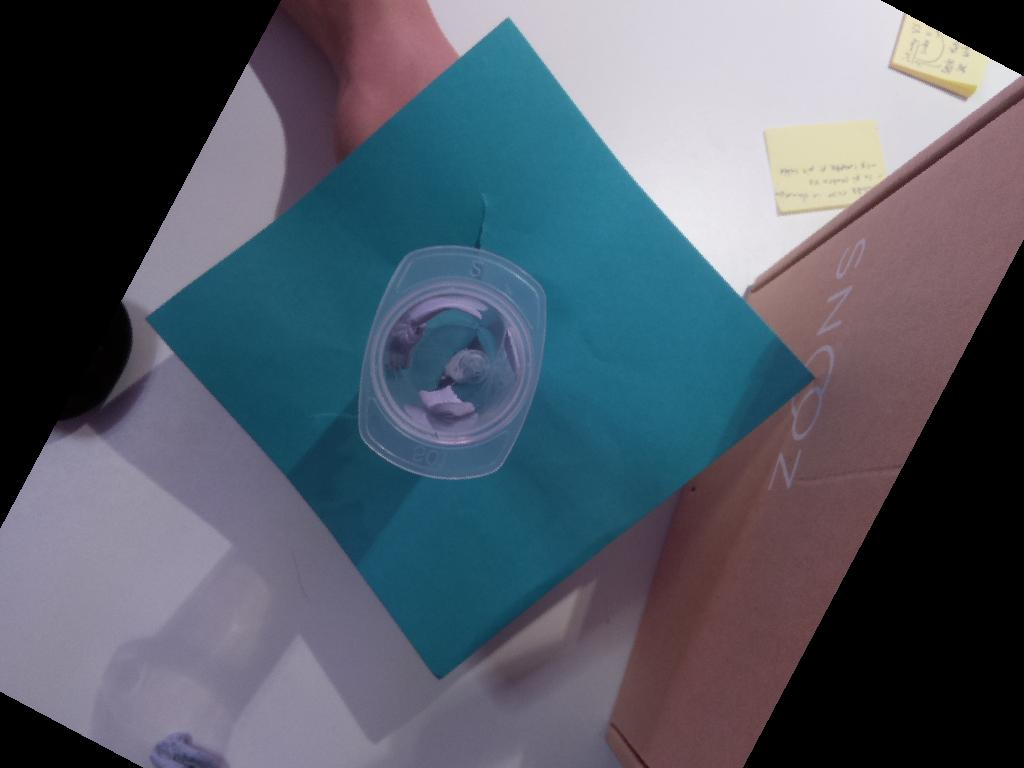dirty: (357, 245, 547, 481)
